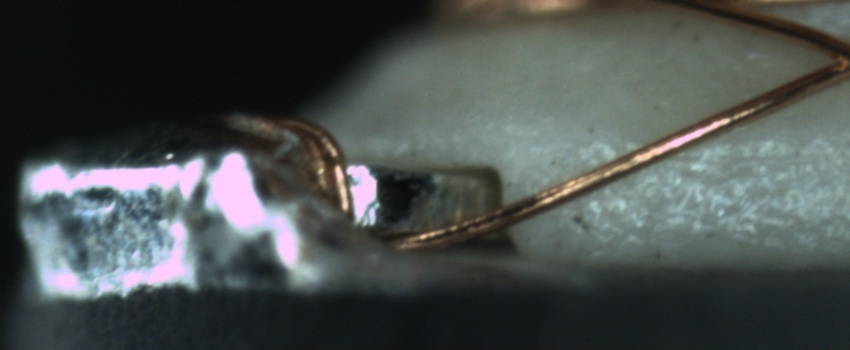CL: (801, 28, 850, 87)
DL: (633, 127, 845, 186)
TE: (226, 108, 352, 229)
